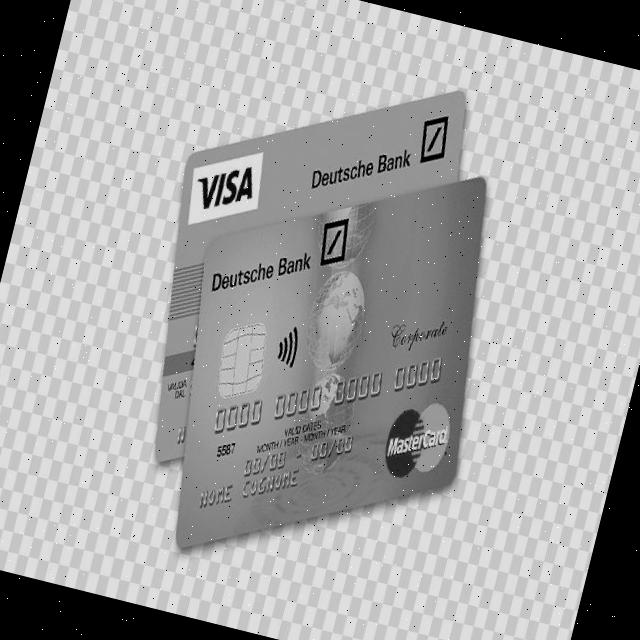card: (176, 176, 486, 552)
